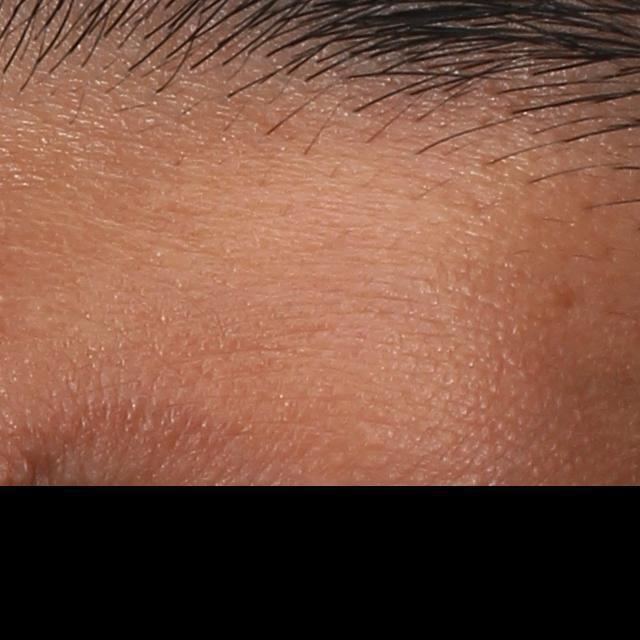melasma: (546, 278, 582, 316)
